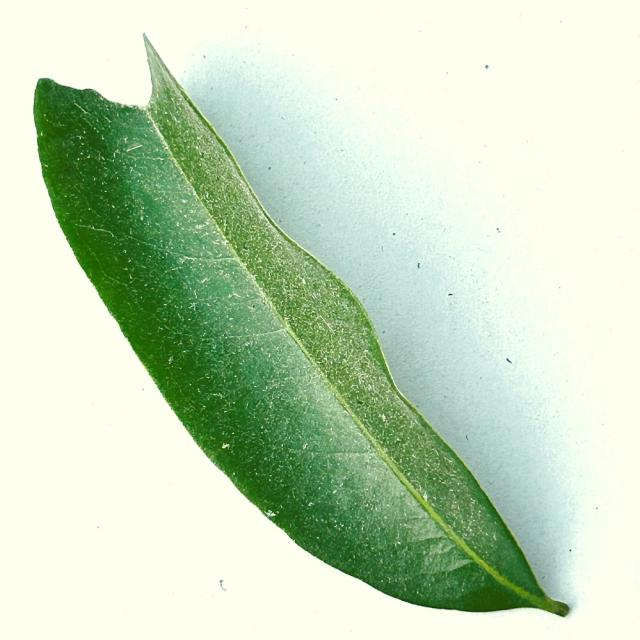Deficiency Leaf: (36, 31, 149, 94)
Lychee: (34, 37, 568, 616)
